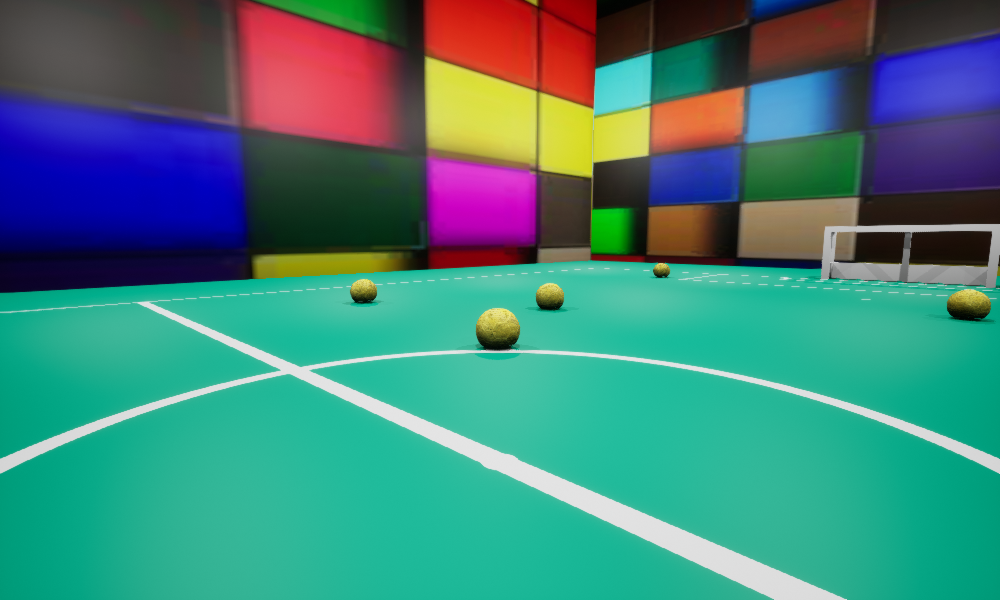b: (476, 308, 519, 349), (947, 289, 990, 319), (536, 283, 563, 309), (350, 279, 376, 302), (653, 263, 669, 277)
g: (821, 224, 999, 287)
